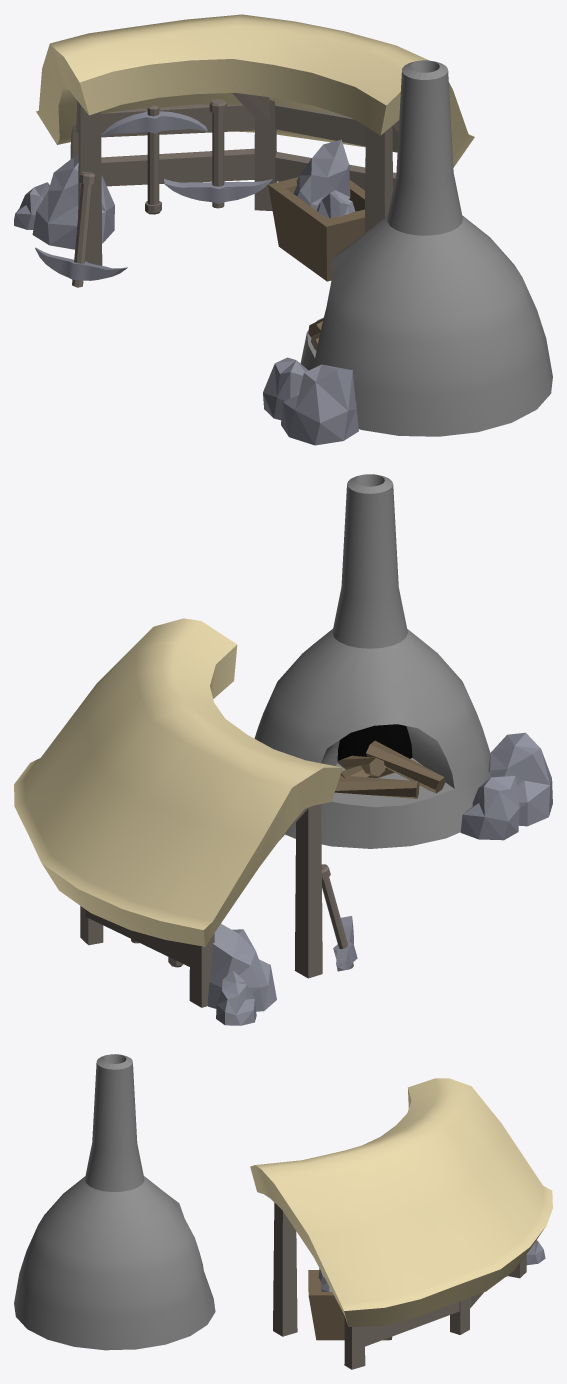
The model's file is MESH_Mine.fbx.
3 views of the same model, one above another, from view 1: azimuth 30°, elevation 25°; view 2: azimuth 150°, elevation 25°; view 3: azimuth 270°, elevation 25° (orthographic). The views are drawn at different scales.
Parts seen in each view (by area): view 1: polySurface118; view 2: polySurface118; view 3: polySurface118.
Part boxes in pixels (x1,y1,x2,y2): polySurface118: (14, 14, 552, 445); polySurface118: (14, 474, 552, 1025); polySurface118: (14, 1054, 552, 1369).
Bounding box in the file's own units: 337 × 271 × 532.
